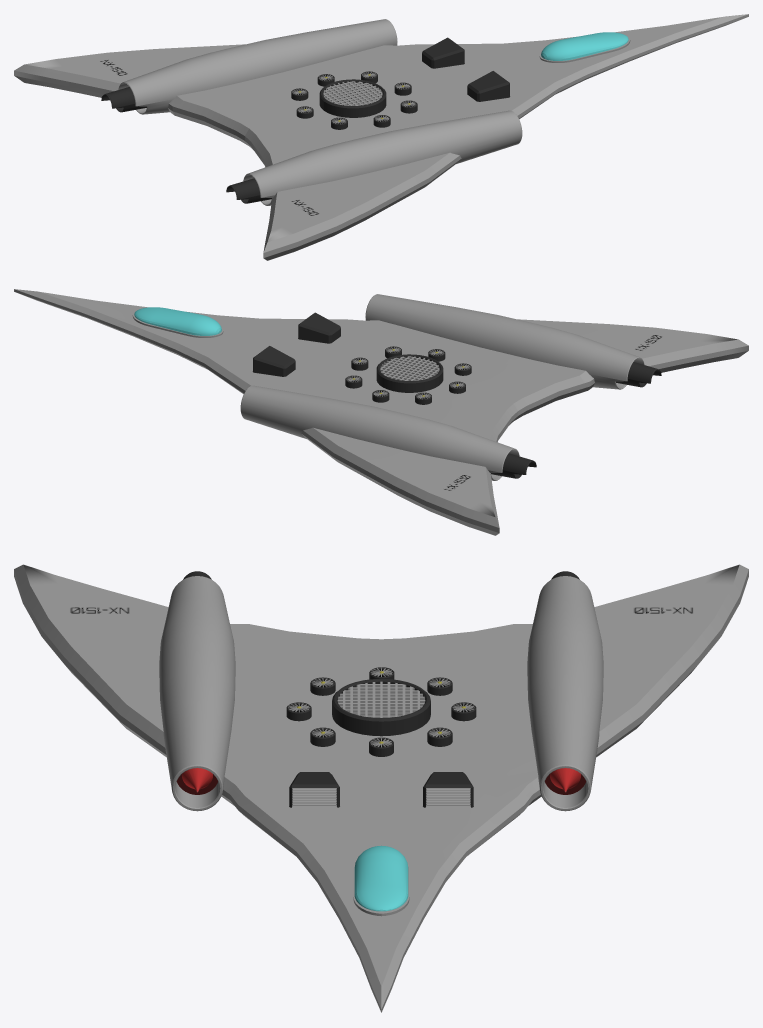
File: ship1b.obj
3 views of the same model, one above another, from view 1: azimuth 30°, elevation 25°; view 2: azimuth 150°, elevation 25°; view 3: azimuth 270°, elevation 25° (orthographic). The views are drawn at different scales.
Visible parts, largest first — view 1: Plane; view 2: Plane; view 3: Plane.
Part boxes in pixels (box(x1,y1,x2,y2)): Plane: box(14, 14, 748, 260); Plane: box(14, 289, 748, 535); Plane: box(14, 564, 748, 1012).
Size of the model in its own units: 0.5002 by 0.037 by 0.354.
1 material, 1 textured.
